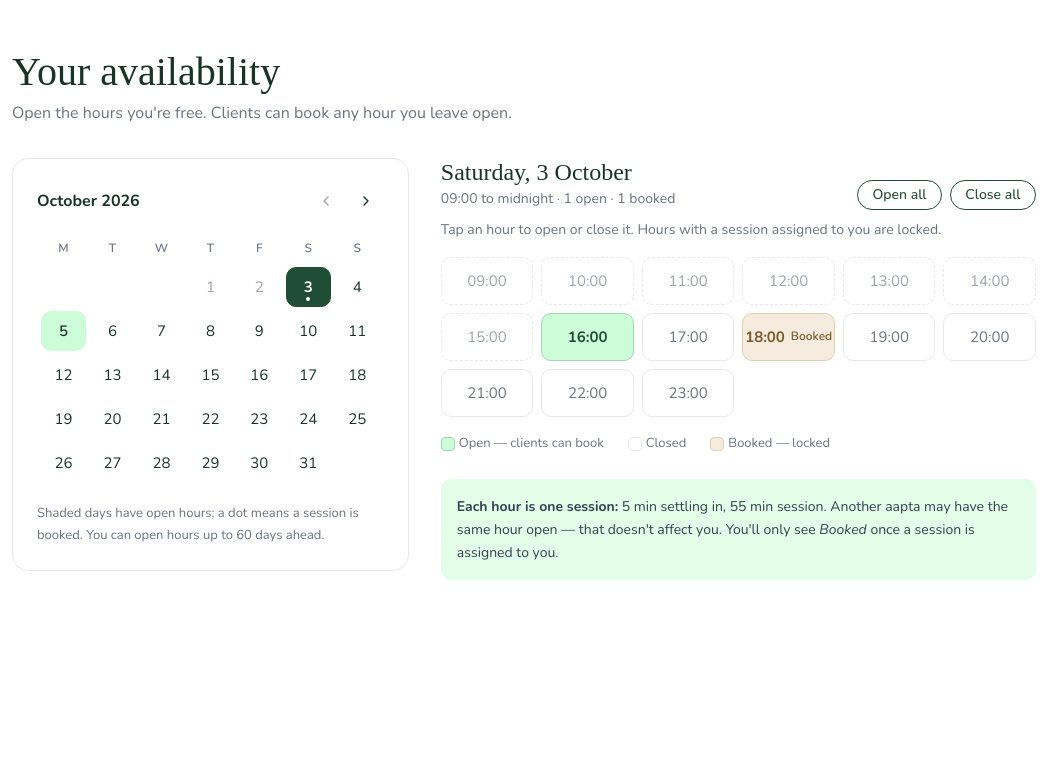
Scenario: AvailabilityPageComponent › shows the save bar after a change and saves it
The image size is (1048, 768).
Click the button with class "hour" showing "19:00" at (889, 337), box [843, 313, 935, 361]
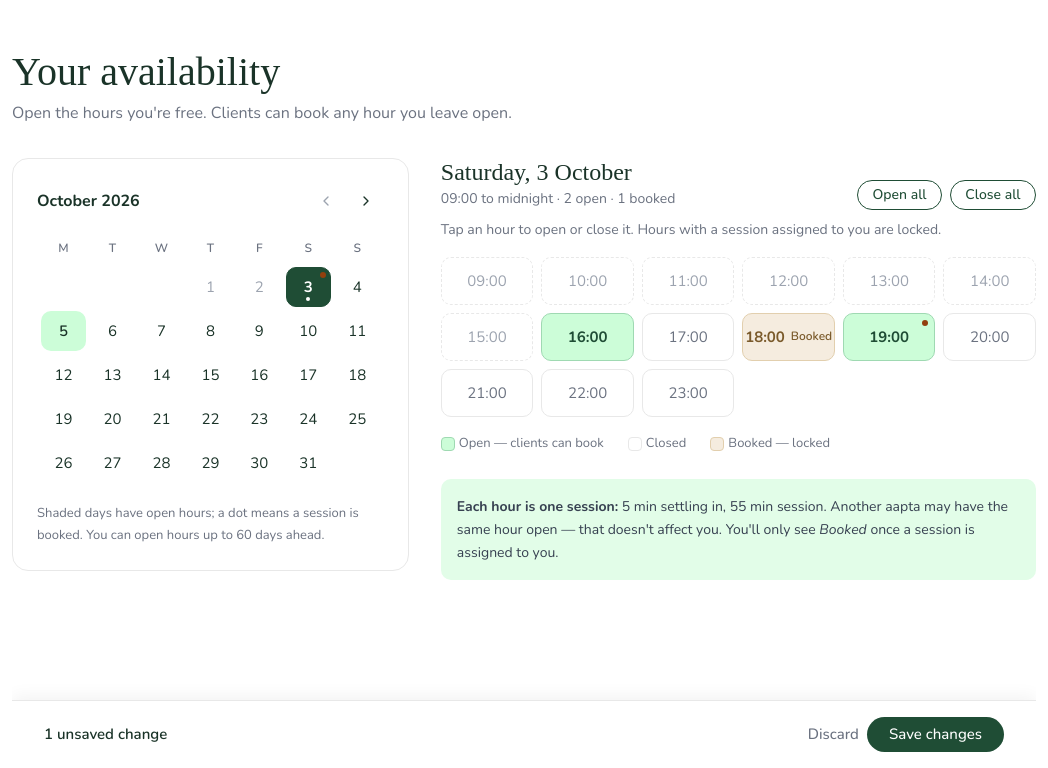
Expected: the text "1 unsaved change" is shown, [44, 722, 167, 747]
Click the button "Save changes" at (935, 734), box [867, 717, 1004, 752]
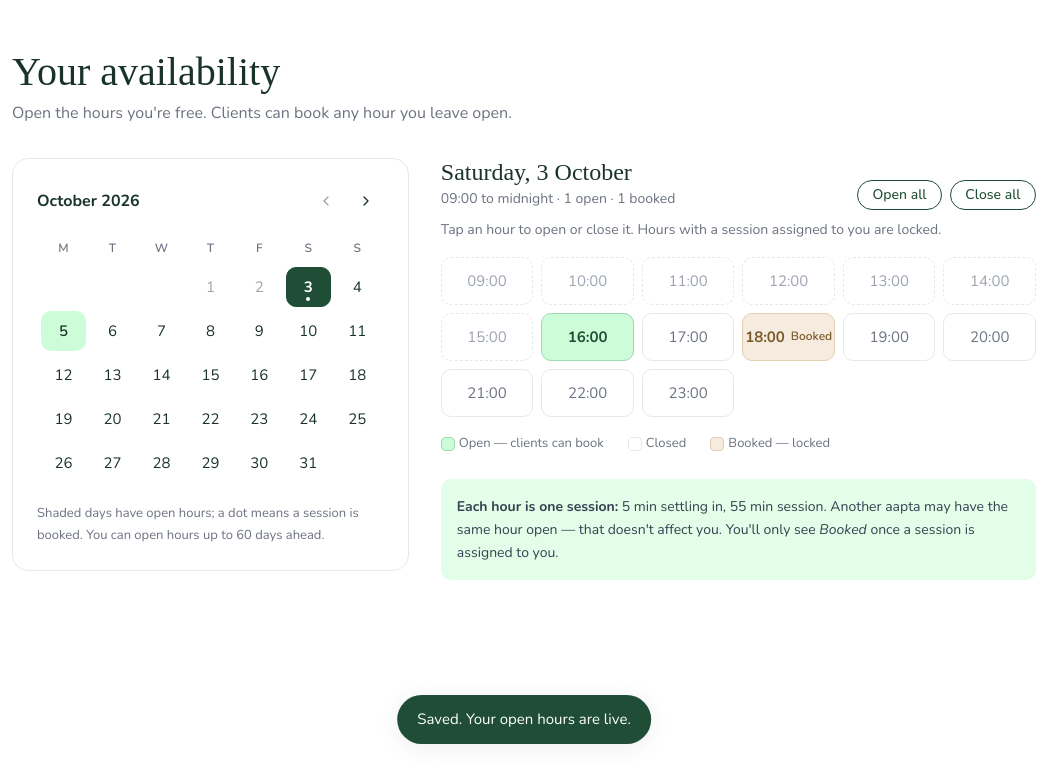
Expected: the text "Saved" is shown, [417, 709, 631, 729]
Expected: the element with class "save-bar" is gone
